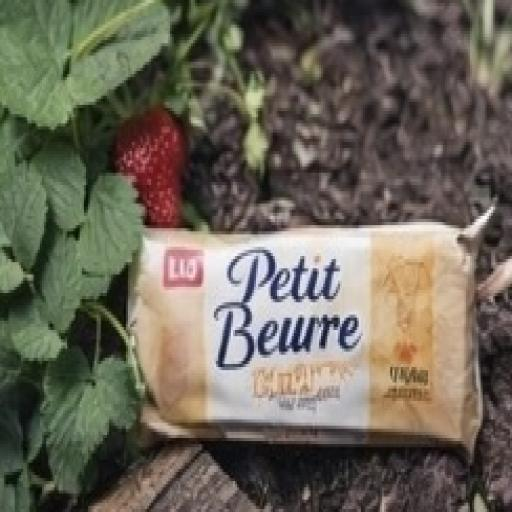petit-beurre: (82, 163, 512, 506)
